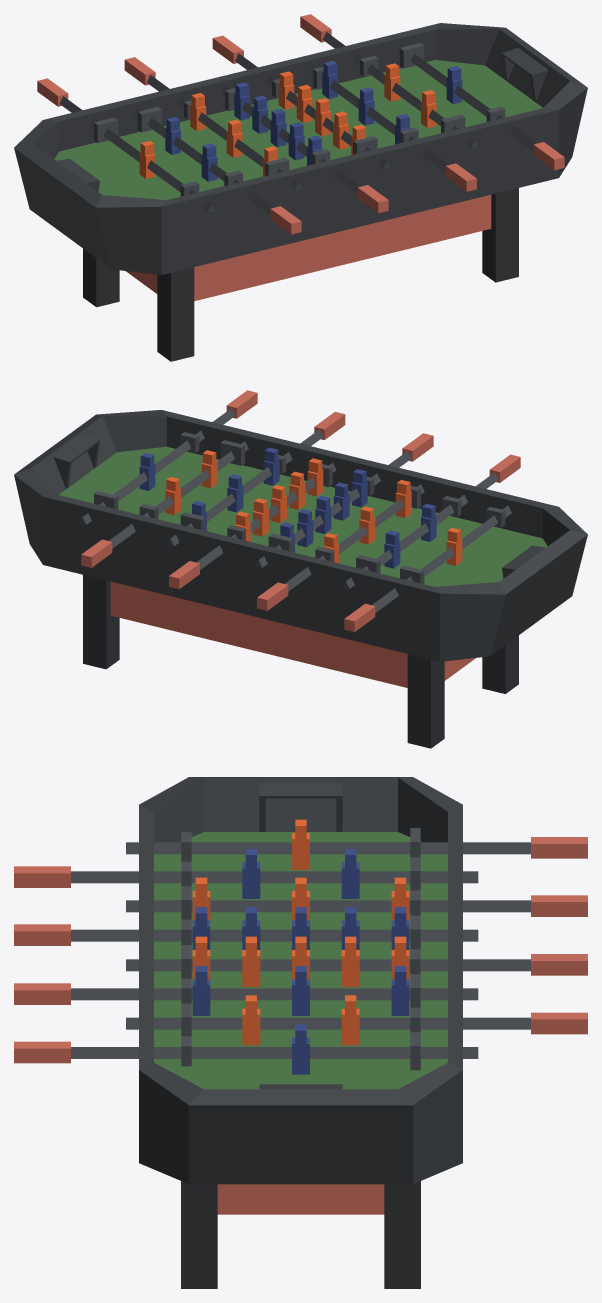
Rendered from SM_GameArea_RecreationalMachines_06.fbx.
3 views of the same model, one above another, from view 1: azimuth 30°, elevation 25°; view 2: azimuth 150°, elevation 25°; view 3: azimuth 270°, elevation 25° (orthographic). The views are drawn at different scales.
Parts seen in each view (by area): view 1: SM_GameArea_RecreationalMachines_06; view 2: SM_GameArea_RecreationalMachines_06; view 3: SM_GameArea_RecreationalMachines_06.
Part boxes in pixels (box(x1,y1,x2,y2)): SM_GameArea_RecreationalMachines_06: box(14, 14, 587, 361); SM_GameArea_RecreationalMachines_06: box(14, 390, 587, 748); SM_GameArea_RecreationalMachines_06: box(14, 777, 587, 1288).
Size of what is drawn, in the model's own units: 935 by 329 by 691.
